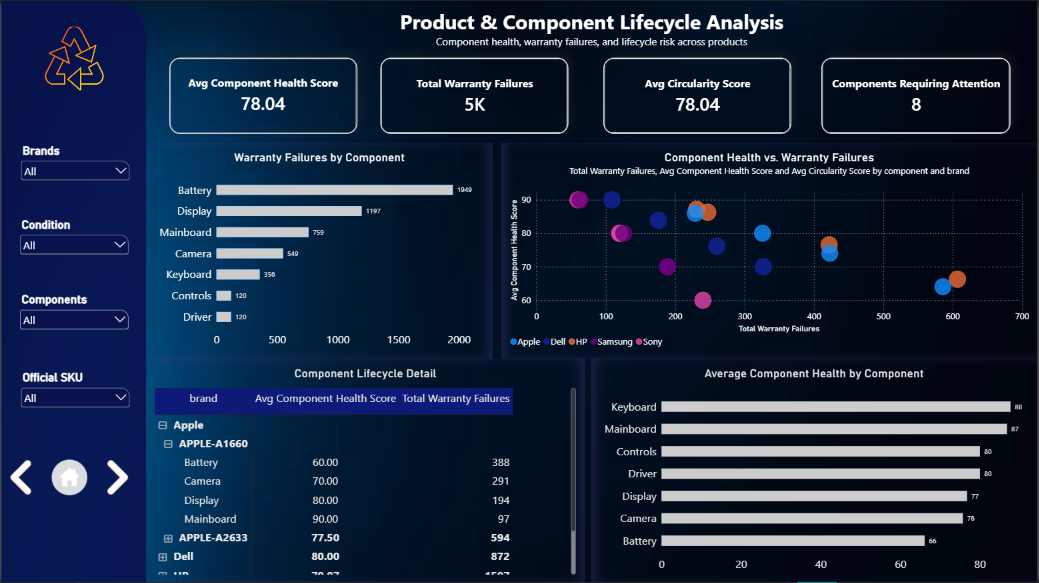

Layout of this report page (visuals, bound fields, positions):
{"tool":"powerbi","page":{"name":"Product & Component Lifecycle","canvas":[1920,1080],"ordinal":2},"visuals":[{"type":"shape","box":[0,0,268.6,1080.7],"z":0},{"type":"scatterChart","title":"Component Health vs. Warranty Failures","fields":{"Category":["marketplace_product_health.component"],"Series":["marketplace_product_health.brand"],"Size":["marketplace_product_health.Avg Circularity Score"],"X":["marketplace_product_health.Total Warranty Failures"],"Y":["marketplace_product_health.Avg Component Health Score"]},"box":[926,264,994,400],"z":1000},{"type":"clusteredBarChart","title":"Warranty Failures by Component","fields":{"Category":["marketplace_product_health.component"],"Y":["marketplace_product_health.Total Warranty Failures"]},"box":[268,264,642,400],"z":2000},{"type":"pivotTable","title":"Component Lifecycle Detail","fields":{"Rows":["marketplace_product_health.brand","marketplace_product_health.official_sku","marketplace_product_health.component"],"Values":["marketplace_product_health.Avg Component Health Score","marketplace_product_health.Total Warranty Failures"]},"box":[268,664,812,416],"z":3000},{"type":"clusteredBarChart","title":"Average Component Health by Component","fields":{"Category":["marketplace_product_health.component"],"Y":["marketplace_product_health.Avg Component Health Score"]},"box":[1094,664,826,416],"z":4000},{"type":"cardVisual","fields":{"Data":["marketplace_product_health.Avg Component Health Score"]},"box":[311.8,106.5,348.6,141.4],"z":5000},{"type":"cardVisual","fields":{"Data":["marketplace_product_health.Total Warranty Failures"]},"box":[703.1,106.5,348.6,141.4],"z":6000},{"type":"cardVisual","fields":{"Data":["marketplace_product_health.Avg Circularity Score"]},"box":[1115.6,106.5,348.6,141.4],"z":7000},{"type":"cardVisual","fields":{"Data":["marketplace_product_health.Components Requiring Attention"]},"box":[1520.4,106.5,350.6,141.4],"z":8000},{"type":"textbox","box":[268.6,12.4,1651,95.1],"z":9000},{"type":"slicer","fields":{"Values":["marketplace_product_health.brand"]},"box":[31,264.5,211.2,68.1],"z":10000},{"type":"slicer","fields":{"Values":["marketplace_product_health.condition"]},"box":[28.9,402.9,211.2,72.7],"z":11000},{"type":"slicer","fields":{"Values":["marketplace_product_health.official_sku"]},"box":[31,686,211.2,72.7],"z":12000},{"type":"slicer","fields":{"Values":["marketplace_product_health.component"]},"box":[28.9,541.4,211.2,72.7],"z":13000},{"type":"image","box":[72.3,47.5,126,117.8],"z":14000},{"type":"image","box":[0,840,72,88],"z":15000},{"type":"image","box":[180,840,72,88],"z":16000},{"type":"image","box":[72,840,108,88],"z":17000}]}

Visuals, with their boxes in screenshot pixels (x1, y1, x2, y2), scaled from the page's 1920x1080 canvas onto the 1039x583 screenshot:
shape: (x1=0, y1=0, x2=145, y2=582)
"Component Health vs. Warranty Failures" scatterChart: (x1=501, y1=143, x2=1038, y2=358)
"Warranty Failures by Component" clusteredBarChart: (x1=145, y1=143, x2=492, y2=358)
"Component Lifecycle Detail" pivotTable: (x1=145, y1=358, x2=584, y2=582)
"Average Component Health by Component" clusteredBarChart: (x1=592, y1=358, x2=1038, y2=582)
cardVisual - marketplace_product_health.Avg Component Health Score: (x1=169, y1=57, x2=357, y2=134)
cardVisual - marketplace_product_health.Total Warranty Failures: (x1=380, y1=57, x2=569, y2=134)
cardVisual - marketplace_product_health.Avg Circularity Score: (x1=604, y1=57, x2=792, y2=134)
cardVisual - marketplace_product_health.Components Requiring Attention: (x1=823, y1=57, x2=1012, y2=134)
textbox: (x1=145, y1=7, x2=1038, y2=58)
slicer - marketplace_product_health.brand: (x1=17, y1=143, x2=131, y2=180)
slicer - marketplace_product_health.condition: (x1=16, y1=217, x2=130, y2=257)
slicer - marketplace_product_health.official_sku: (x1=17, y1=370, x2=131, y2=410)
slicer - marketplace_product_health.component: (x1=16, y1=292, x2=130, y2=332)
image: (x1=39, y1=26, x2=107, y2=89)
image: (x1=0, y1=453, x2=39, y2=501)
image: (x1=97, y1=453, x2=136, y2=501)
image: (x1=39, y1=453, x2=97, y2=501)
